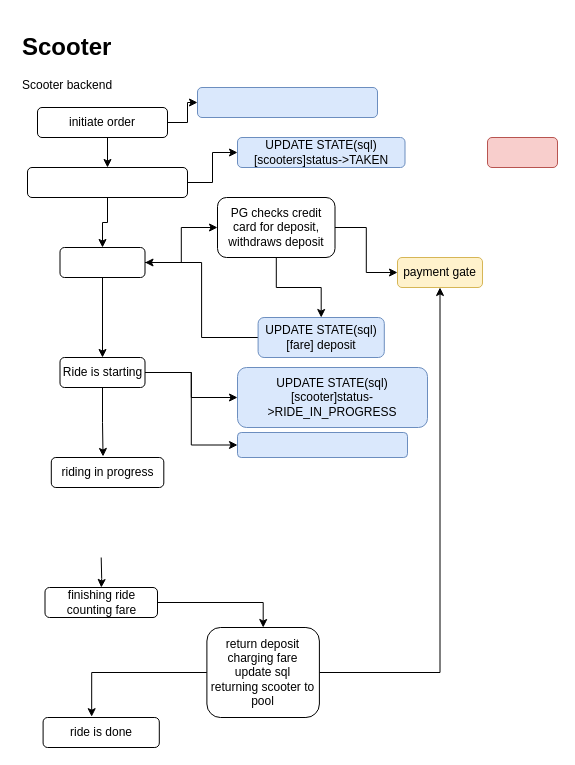
The diagram is 575 pixels wide and 765 high, and some of its shapes have lost their labels. The shapes that lost their labels are listed below. From the top down, each one's box as (x1, y1, x2, y2) in pixels, then its label:
(196, 86, 378, 118): INSERT STATE(sql)[rides] date,timestamp,user_id
(486, 136, 558, 168): exception
(26, 166, 188, 198): checking this scooter validity and lock him for a while
(59, 246, 145, 278): checking user bank account
(236, 432, 408, 458): UPDATE STATE(SQL)[fare]
